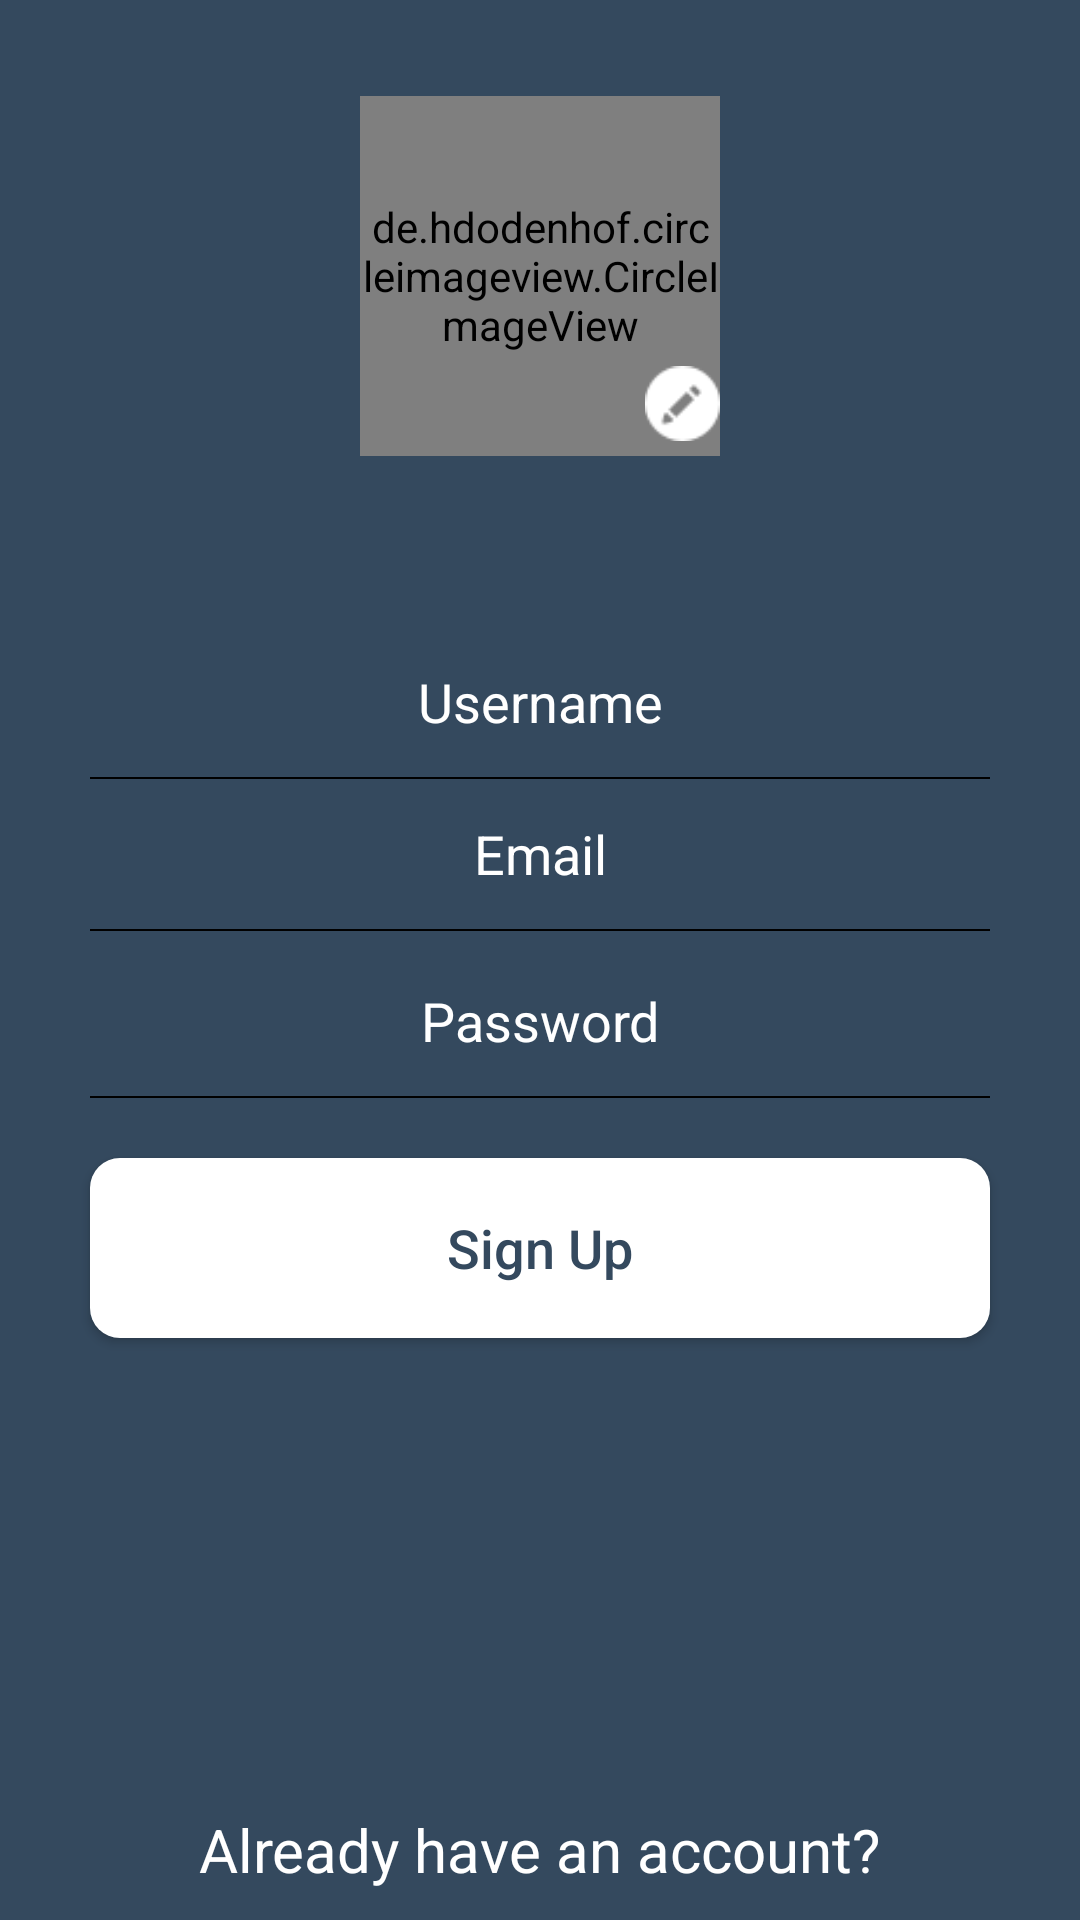

Icons on this 1080 x 1920 Android screen, each with its box as (x1, y1, x2, y2):
pencil: (645, 366, 720, 441)
